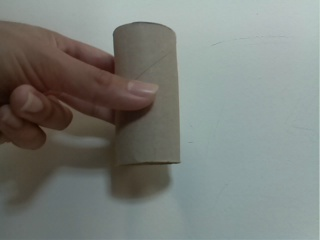rollo papel: (108, 20, 186, 171)
